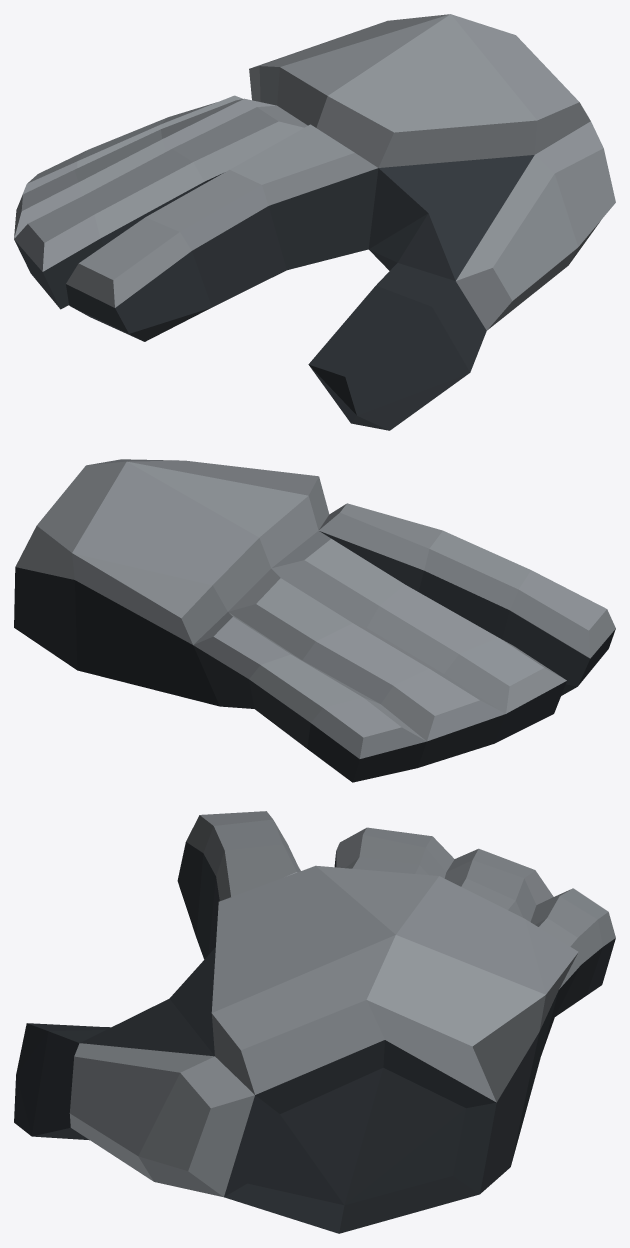
The model's file is Chr_HandRight_Female_12_Static.fbx.
The picture shows the model from 3 angles, top to bottom: view 1: azimuth 30°, elevation 25°; view 2: azimuth 150°, elevation 25°; view 3: azimuth 270°, elevation 25°; orthographic projection. The views are drawn at different scales.
Visible parts, largest first — view 1: Chr_HandRight_Female_12_Static; view 2: Chr_HandRight_Female_12_Static; view 3: Chr_HandRight_Female_12_Static.
Part boxes in pixels (x1,y1,x2,y2): Chr_HandRight_Female_12_Static: (14,14,615,430); Chr_HandRight_Female_12_Static: (14,459,615,782); Chr_HandRight_Female_12_Static: (14,811,615,1233).
Bounding box in the file's own units: 0.237 × 0.1165 × 0.188.
